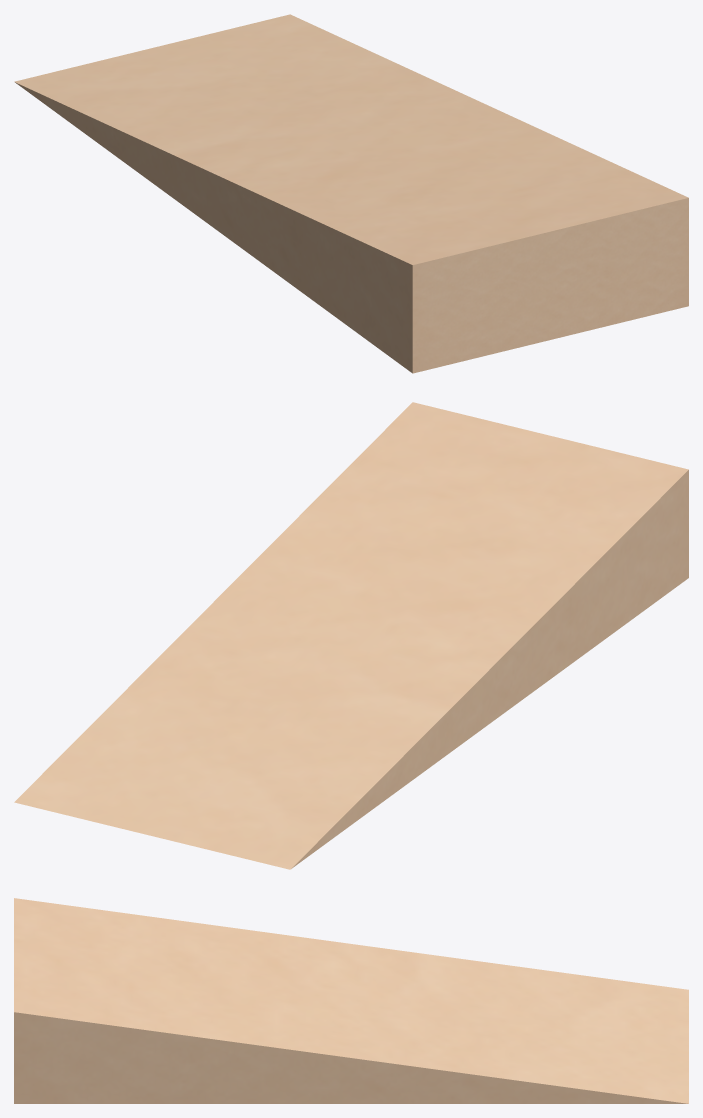
Rendered from Ramp.fbx.
The picture shows the model from 3 angles, top to bottom: view 1: azimuth 30°, elevation 25°; view 2: azimuth 150°, elevation 25°; view 3: azimuth 270°, elevation 25°; orthographic projection. The views are drawn at different scales.
Visible parts, largest first — view 1: Ramp; view 2: Ramp; view 3: Ramp.
Part boxes in pixels (left/top/right/bottom): Ramp: left=14, top=14, right=688, bottom=373; Ramp: left=14, top=402, right=688, bottom=869; Ramp: left=14, top=898, right=688, bottom=1103.
Size of the model in its own units: 1.2 by 0.45 by 3.
1 material, 1 textured.
